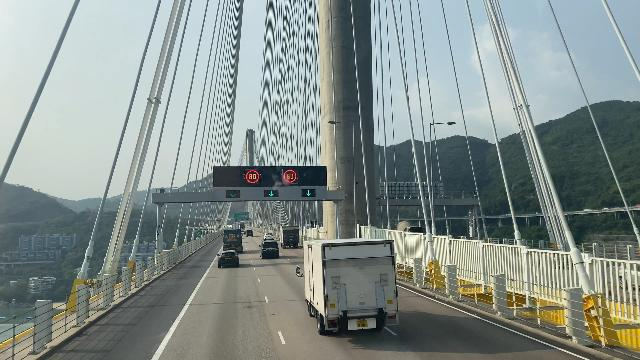car: (217, 249, 243, 269), (257, 240, 283, 259), (264, 233, 274, 241), (246, 230, 253, 237), (242, 230, 246, 235)
truck: (294, 240, 402, 334), (278, 223, 301, 251), (222, 228, 246, 254), (231, 222, 240, 230), (239, 222, 245, 230)
